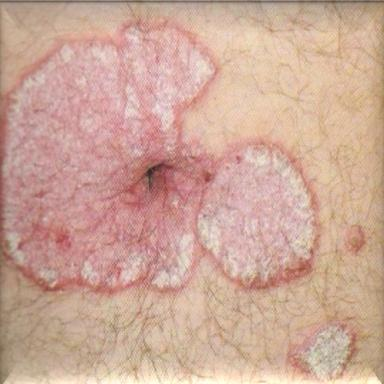Psoriasis: (0, 22, 319, 291), (289, 321, 355, 380)
